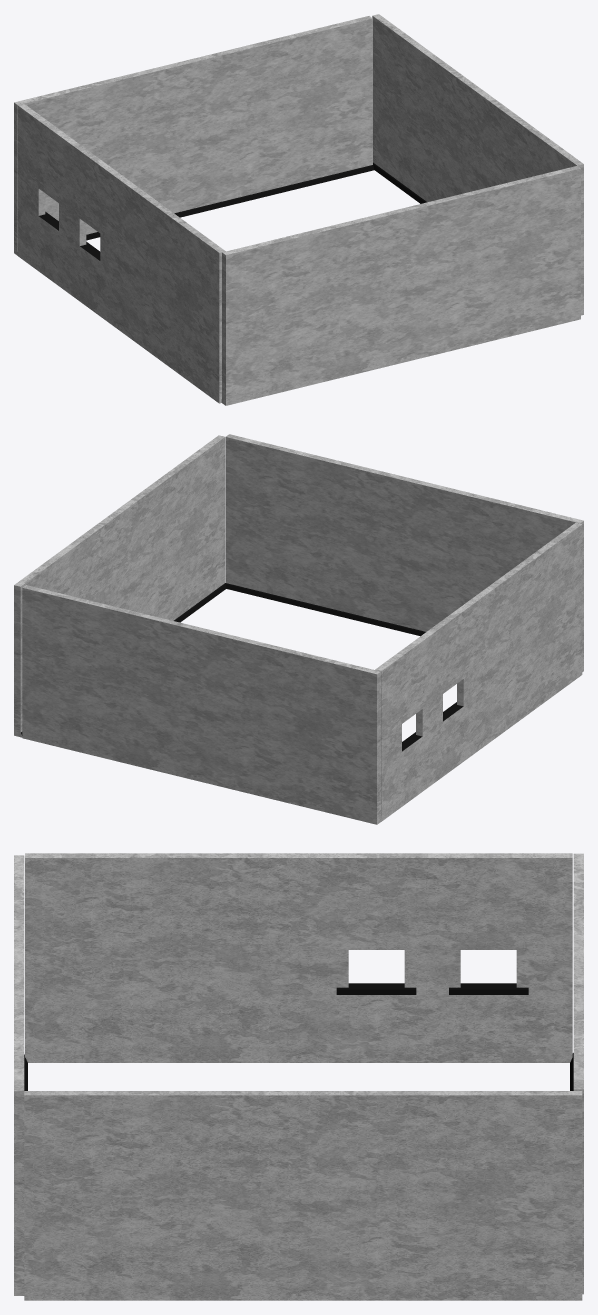
File: kitchenWall.FBX
3 views of the same model, one above another, from view 1: azimuth 30°, elevation 25°; view 2: azimuth 150°, elevation 25°; view 3: azimuth 270°, elevation 25° (orthographic). The views are drawn at different scales.
Parts seen in each view (by area): view 1: Box03; view 2: Box03; view 3: Box03.
Part boxes in pixels (box(x1,y1,x2,y2)): Box03: box(14, 14, 583, 405); Box03: box(14, 434, 583, 824); Box03: box(14, 853, 583, 1300).
Size of the model in its own units: 276 by 109 by 275.
Materials: 2 (1 with a texture image).
